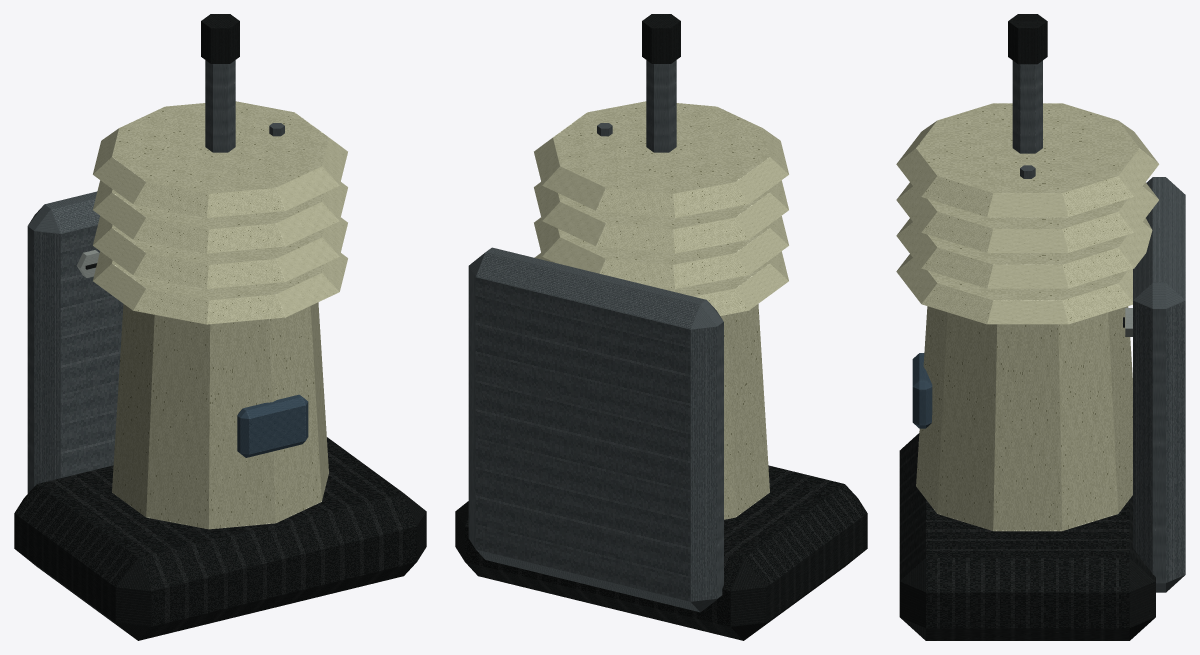
File: blender_thermal_beacon_1_deployed.glb
The picture shows the model from 3 angles, left to right: view 1: azimuth 30°, elevation 25°; view 2: azimuth 150°, elevation 25°; view 3: azimuth 270°, elevation 25°; orthographic projection.
Visible parts, largest first — view 1: blender_thermal_beacon_1_deployed; view 2: blender_thermal_beacon_1_deployed; view 3: blender_thermal_beacon_1_deployed.
Part boxes in pixels (x1,y1,x2,y2): blender_thermal_beacon_1_deployed: (14,14,426,640); blender_thermal_beacon_1_deployed: (455,14,867,640); blender_thermal_beacon_1_deployed: (896,14,1185,640).
Bounding box in the file's own units: 0.055 × 0.093 × 0.044.
Materials: 5 (5 with a texture image).
